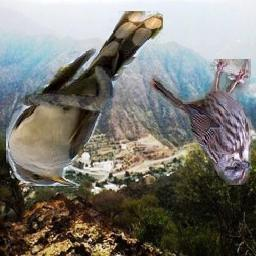Cuckoo: (7, 12, 164, 187)
Sparrow: (151, 59, 252, 185)
